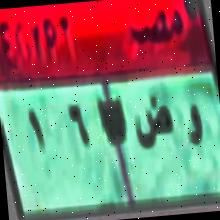1: (26, 103, 49, 159)
6: (68, 96, 92, 157)
daad: (130, 92, 178, 156)
waw: (184, 96, 206, 158)
